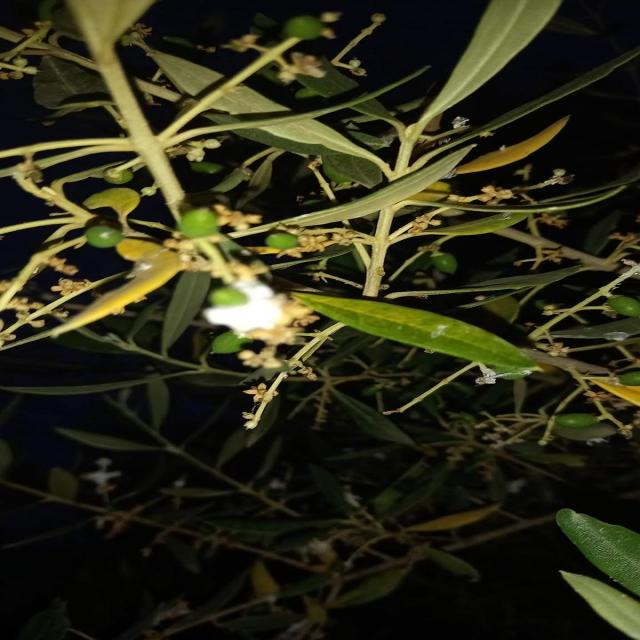Psyllid: (168, 240, 316, 347)
